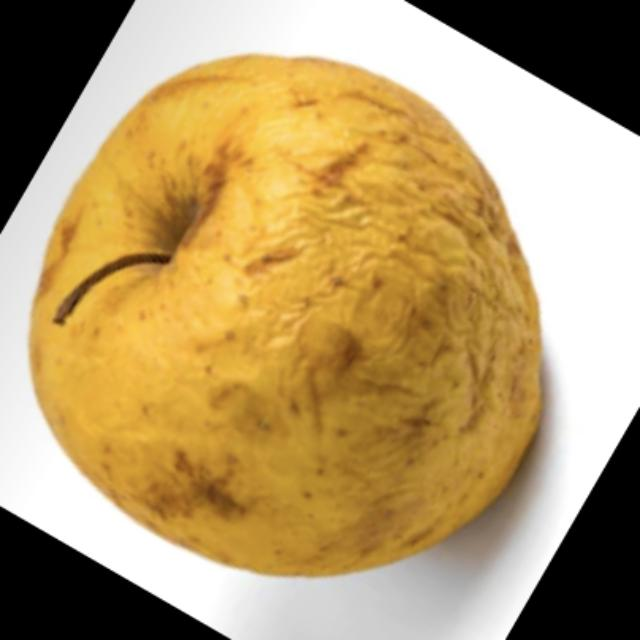Apel Tidak Segar: (22, 48, 546, 576)
